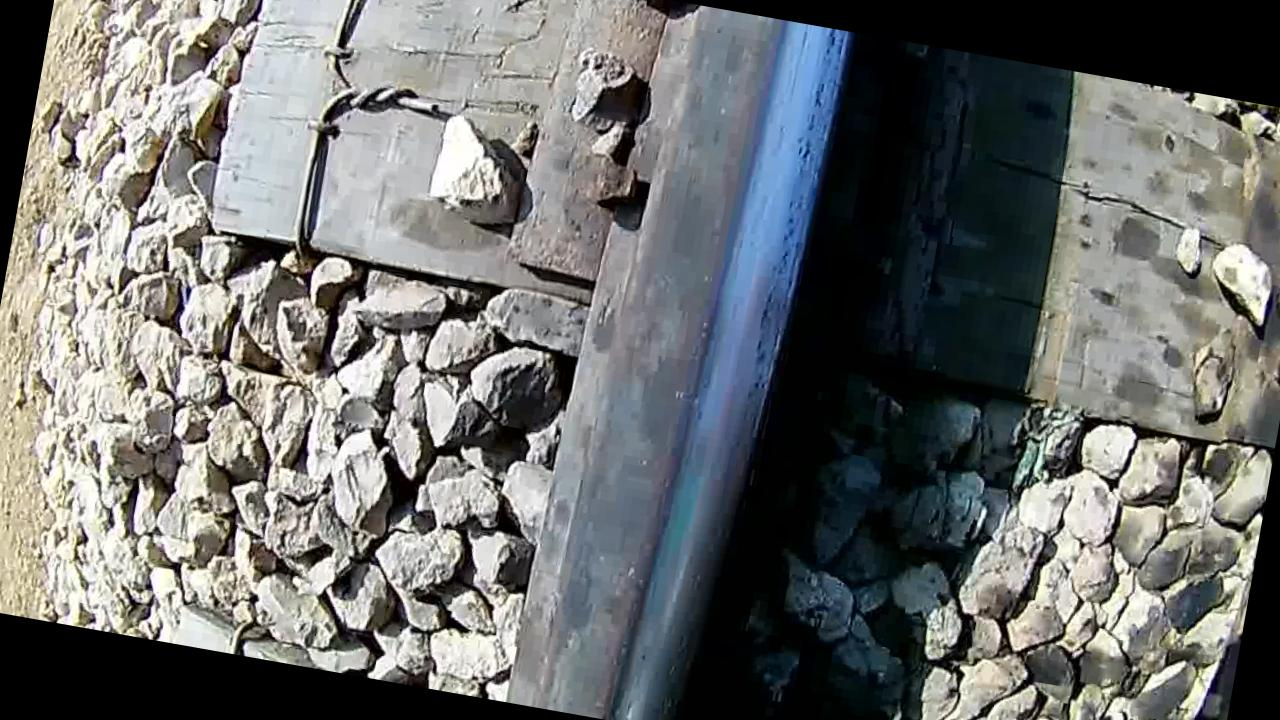crack: (562, 2, 853, 720)
